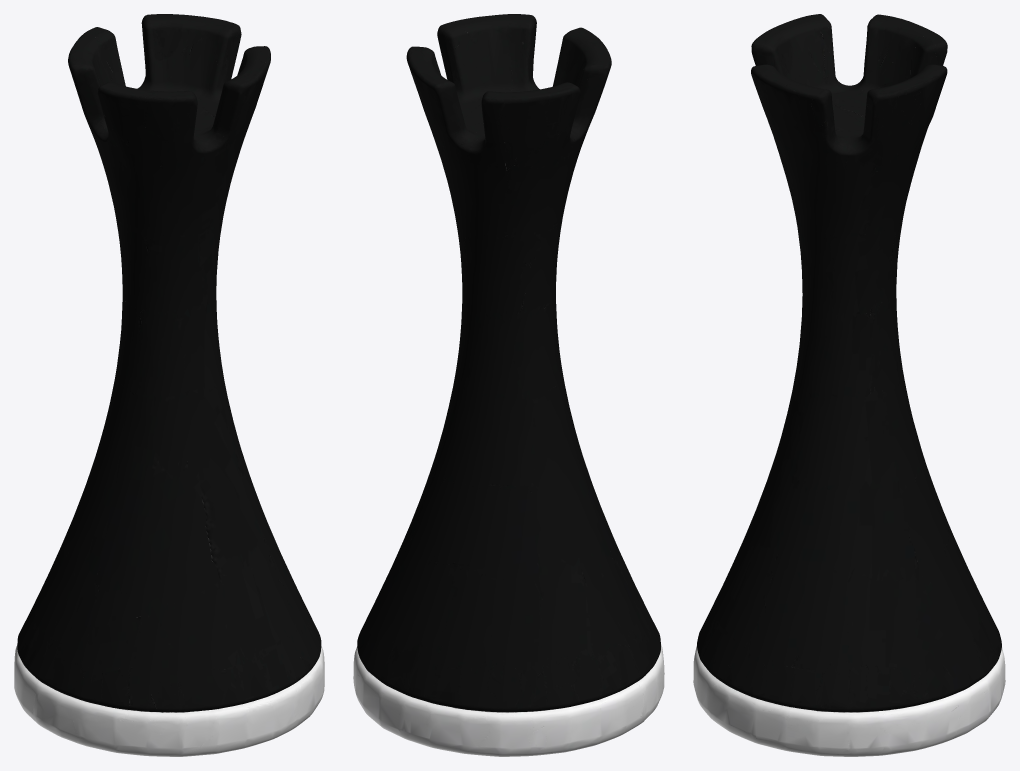
File: bishop-black-hd.glb
The picture shows the model from 3 angles, left to right: view 1: azimuth 30°, elevation 25°; view 2: azimuth 150°, elevation 25°; view 3: azimuth 270°, elevation 25°; orthographic projection.
Bounding box in the file's own units: 0.6633 × 1.5 × 0.6625.
1 material, 1 textured.
